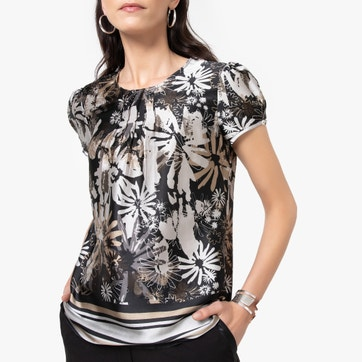C_short blouse: (53, 57, 281, 345)
